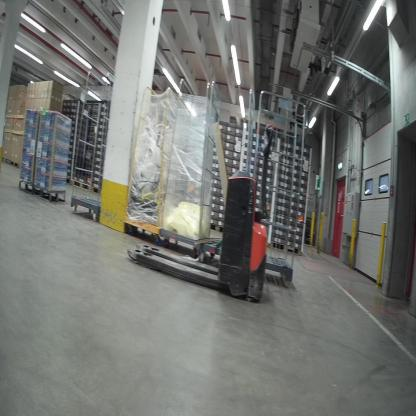pallet: (198, 207, 226, 237), (268, 236, 303, 259), (73, 176, 93, 193), (90, 184, 102, 197), (60, 174, 73, 186), (9, 157, 23, 168)
pallet_truck: (121, 103, 275, 309)
